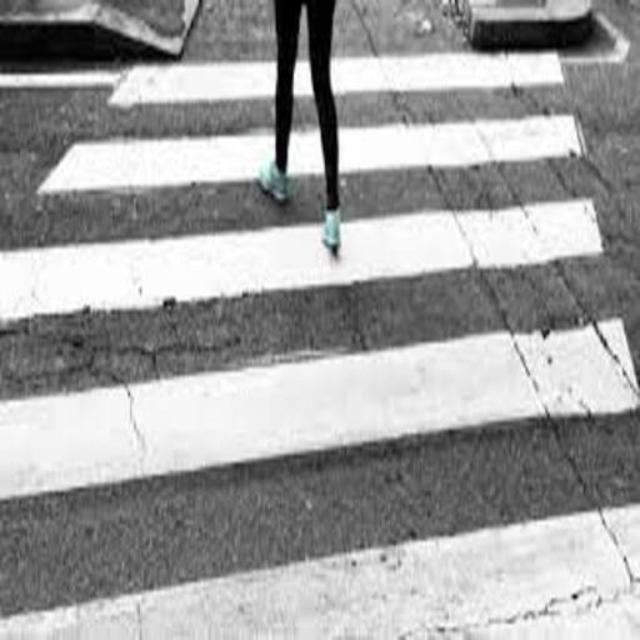sidewalk: (0, 47, 640, 640)
